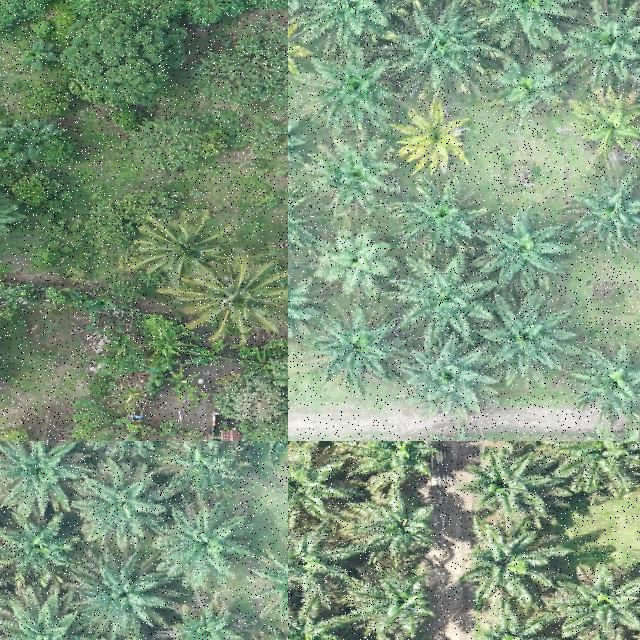Ganoderma: (406, 110, 466, 165), (582, 100, 640, 151)
